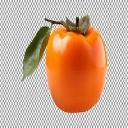tomato: (46, 27, 108, 113)
